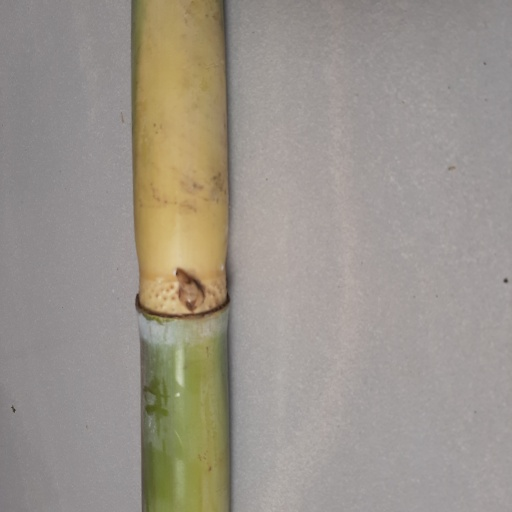Bud: (174, 269, 208, 313)
